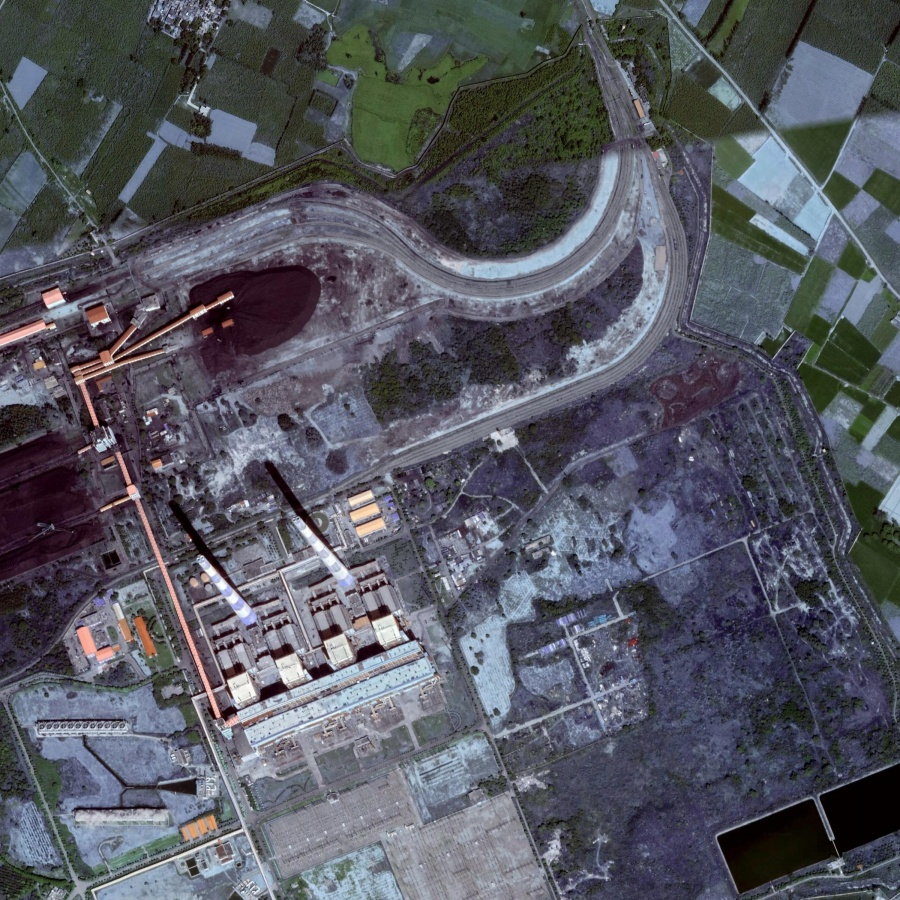PowerPlant: (158, 453, 395, 658)
